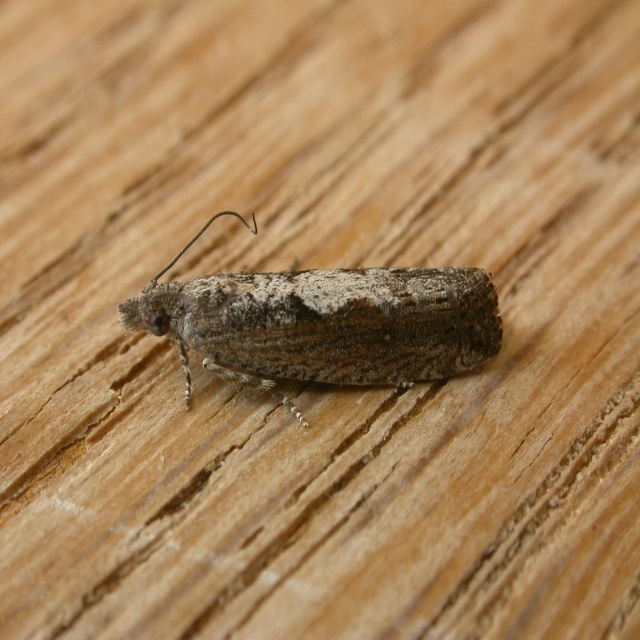Moths and butterflies: (118, 209, 504, 433)
